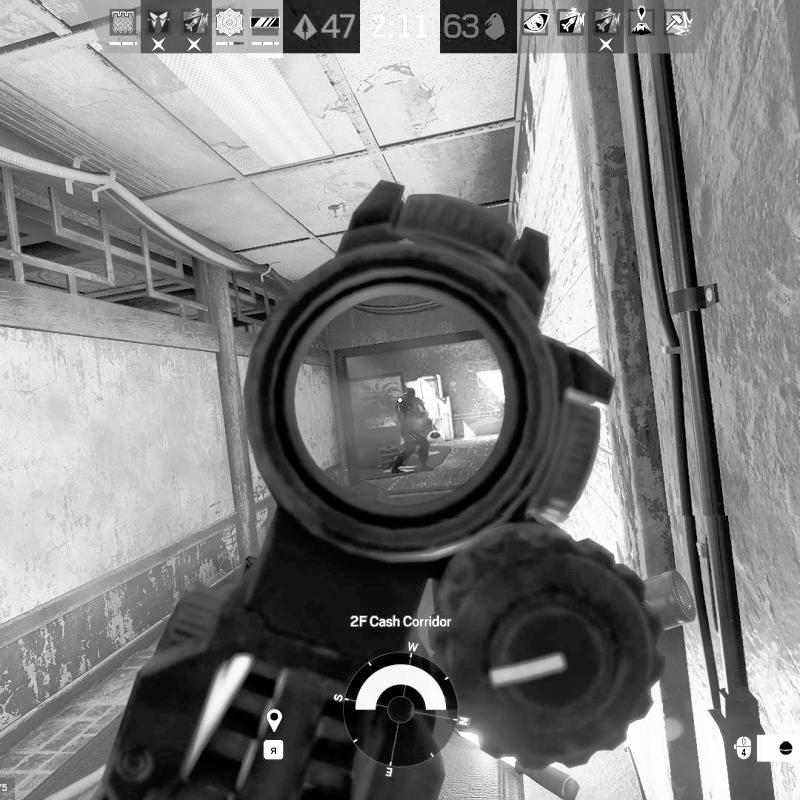Character: (390, 386, 434, 475)
Head: (406, 386, 416, 398)
